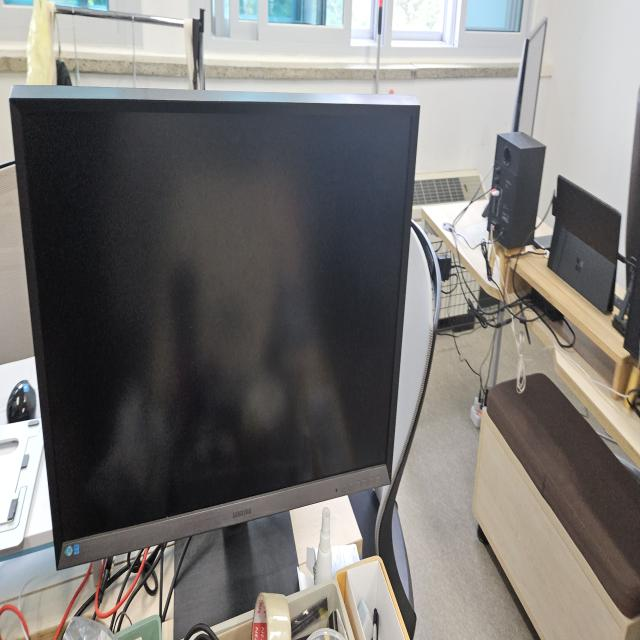Monitor: (8, 80, 422, 569)
